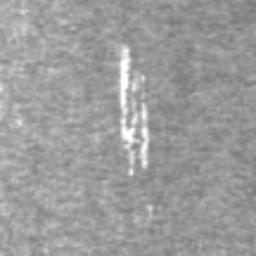White rust: (118, 45, 150, 169)
